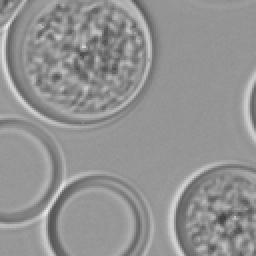picoshell: (0, 0, 150, 126), (48, 172, 150, 254), (168, 164, 254, 254), (0, 118, 62, 220), (242, 70, 254, 144)
